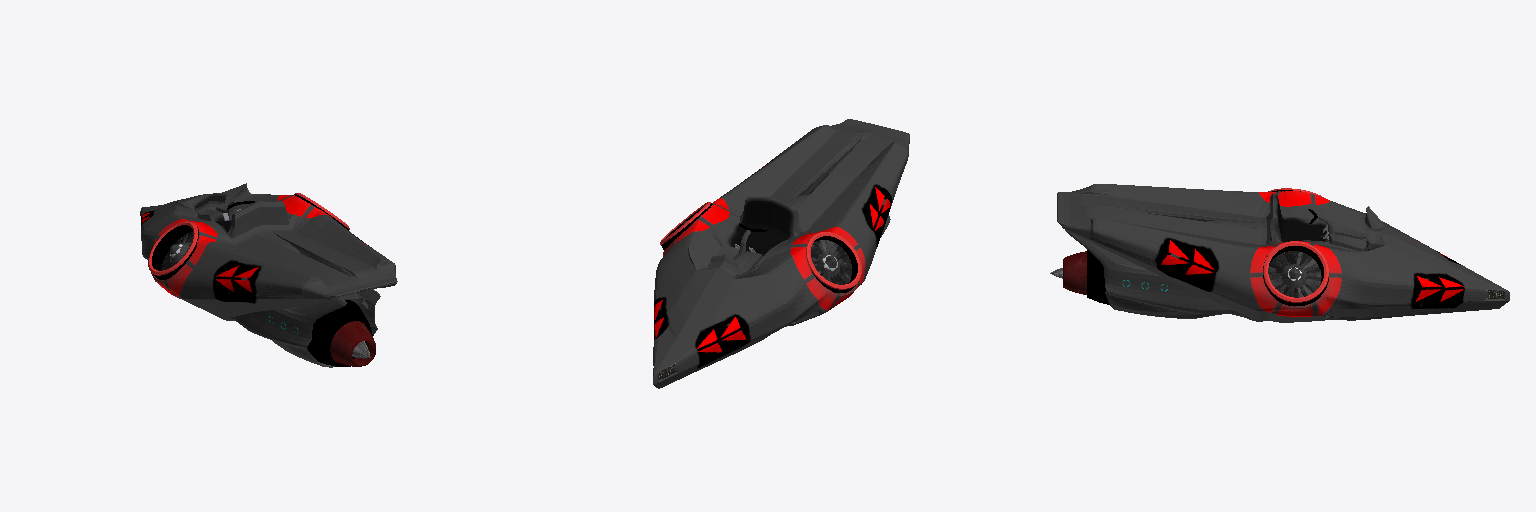
The picture shows the model from 3 angles: view 1: azimuth 30°, elevation 25°; view 2: azimuth 150°, elevation 25°; view 3: azimuth 270°, elevation 25°; orthographic projection.
Parts seen in each view (by area): view 1: Cube, kabuk.001_Cylinder.003, kabuk.002_Cylinder.002, fan.002_Cylinder.006; view 2: Cube, fan.002_Cylinder.006, kabuk.002_Cylinder.002, kabuk.003_Cylinder.009; view 3: Cube, fan.003_Cylinder.008, kabuk.001_Cylinder.003, kabuk.003_Cylinder.009.
Part boxes in pixels (left/top/right/bottom): Cube: left=140, top=183, right=397, bottom=367; kabuk.001_Cylinder.003: left=307, top=300, right=375, bottom=366; kabuk.002_Cylinder.002: left=148, top=221, right=198, bottom=279; fan.002_Cylinder.006: left=161, top=232, right=193, bottom=270; Cube: left=653, top=119, right=909, bottom=388; fan.002_Cylinder.006: left=811, top=240, right=851, bottom=284; kabuk.002_Cylinder.002: left=806, top=232, right=861, bottom=292; kabuk.003_Cylinder.009: left=660, top=202, right=712, bottom=249; Cube: left=1057, top=184, right=1509, bottom=322; fan.003_Cylinder.008: left=1268, top=251, right=1321, bottom=297; kabuk.001_Cylinder.003: left=1050, top=250, right=1110, bottom=305; kabuk.003_Cylinder.009: left=1263, top=241, right=1328, bottom=306.
Bounding box in the file's own units: 9.16 × 5.12 × 19.14.
9 materials, 9 textured.